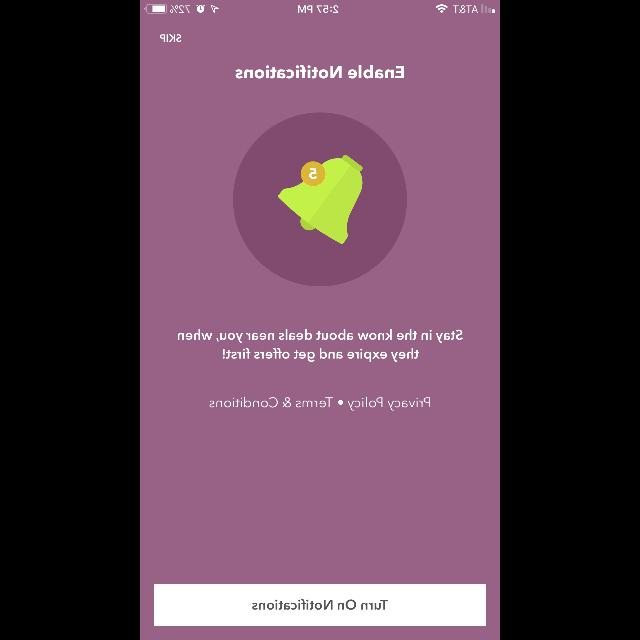image: (233, 113, 407, 287)
text: (178, 330, 462, 362), (210, 397, 430, 411), (236, 65, 404, 79), (159, 34, 181, 42)
textbutton: (154, 584, 486, 626)
uppertaskbar: (140, 0, 500, 14)
